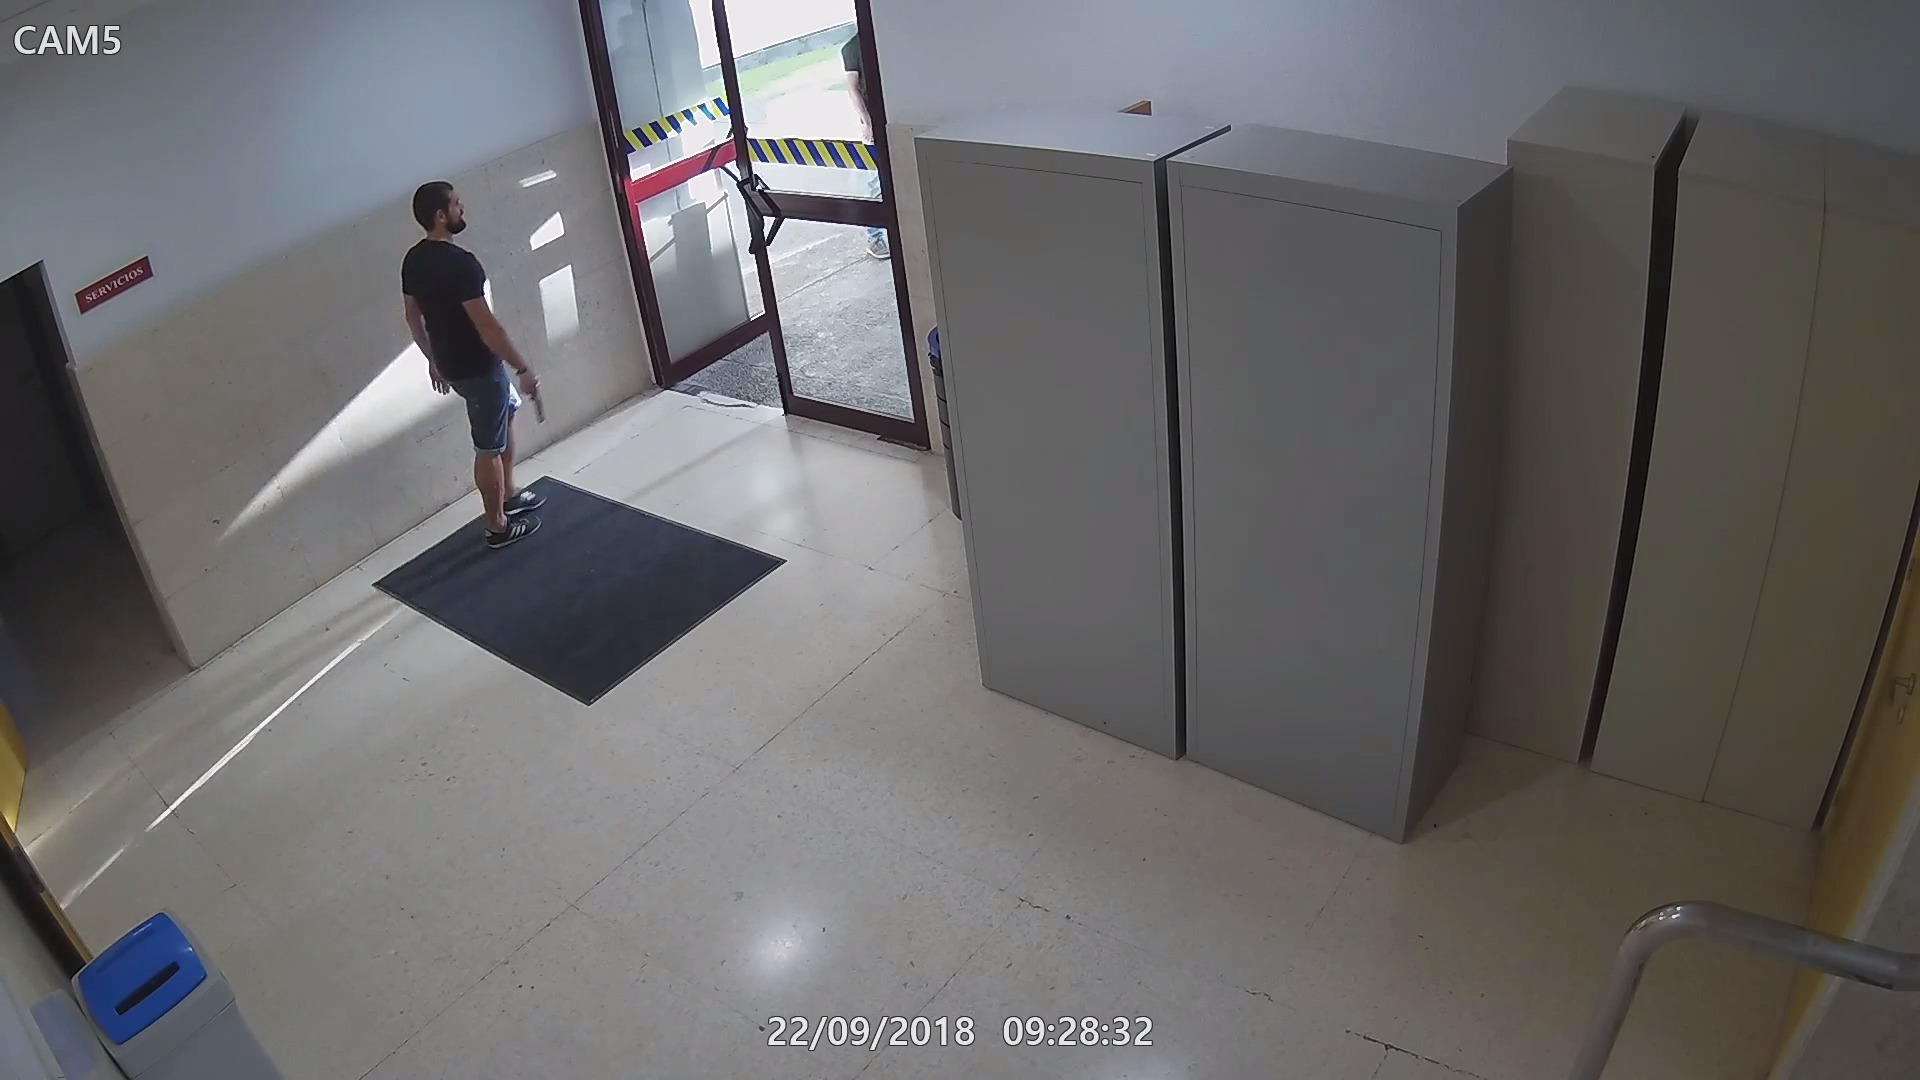pistol: (516, 371, 549, 425)
